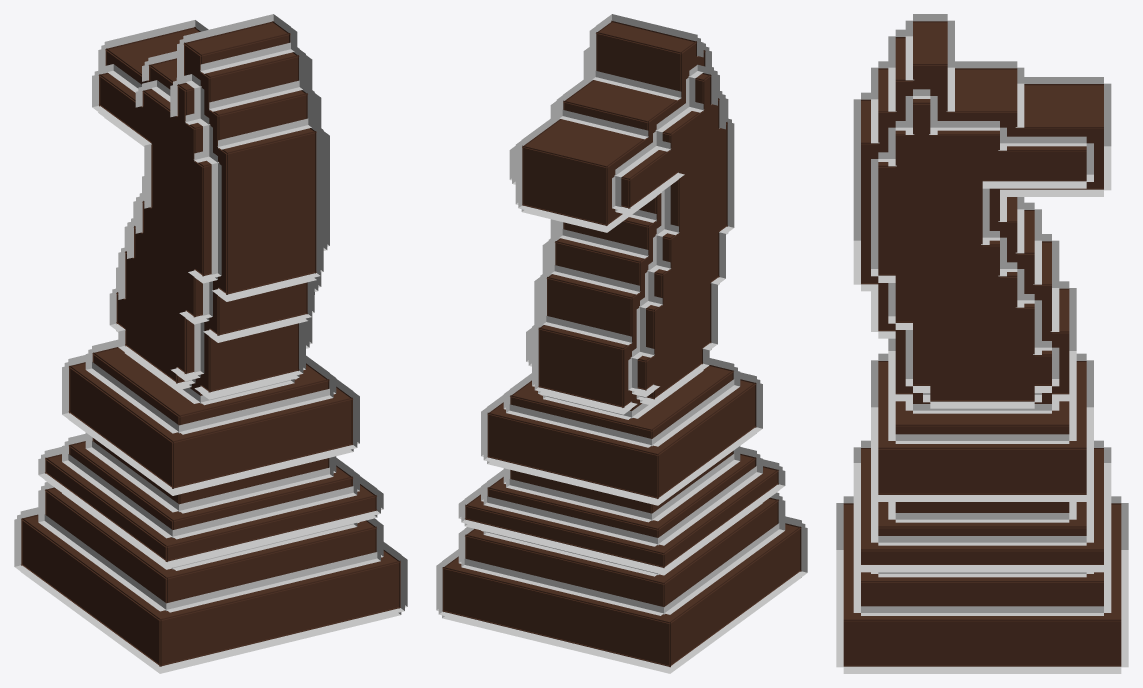
File: brown-knight.glb
3 renders of one model, left to right at view 1: azimuth 30°, elevation 25°; view 2: azimuth 150°, elevation 25°; view 3: azimuth 270°, elevation 25°, orthographic. The views are drawn at different scales.
Visible parts, largest first — view 1: chess-knight-brown_model; view 2: chess-knight-brown_model; view 3: chess-knight-brown_model.
Boxes of the visible parts, x1,y1,x2,y2 form: chess-knight-brown_model: (14,14,407,673); chess-knight-brown_model: (436,14,807,673); chess-knight-brown_model: (836,14,1128,673).
Size of the model in its own units: 1.68 by 3.68 by 1.68.
Materials: 2 (1 with a texture image).
